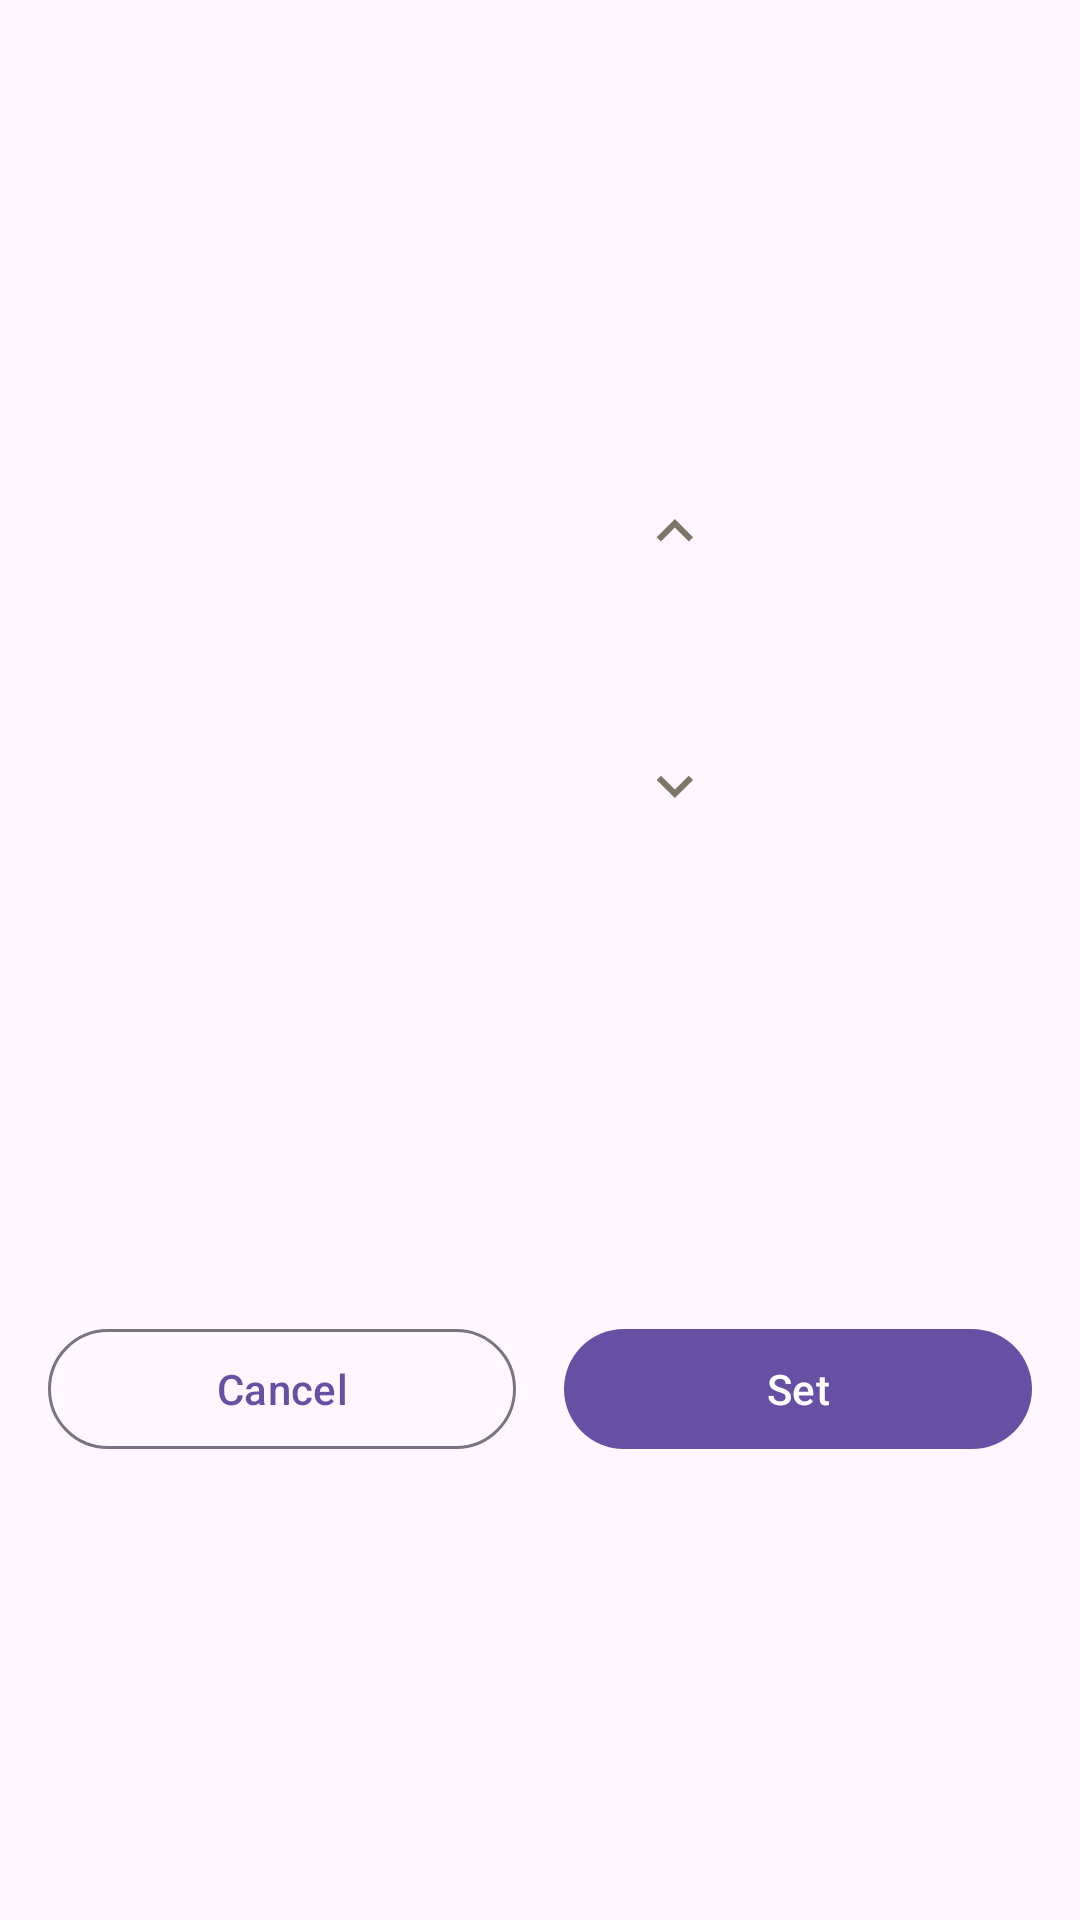

Screen size 1080x1920. Icon name, then its box in pixels as [x1,y1,x2,y2]:
Decrease Value: [657,776,693,798]
Increase Value: [657,519,693,542]
